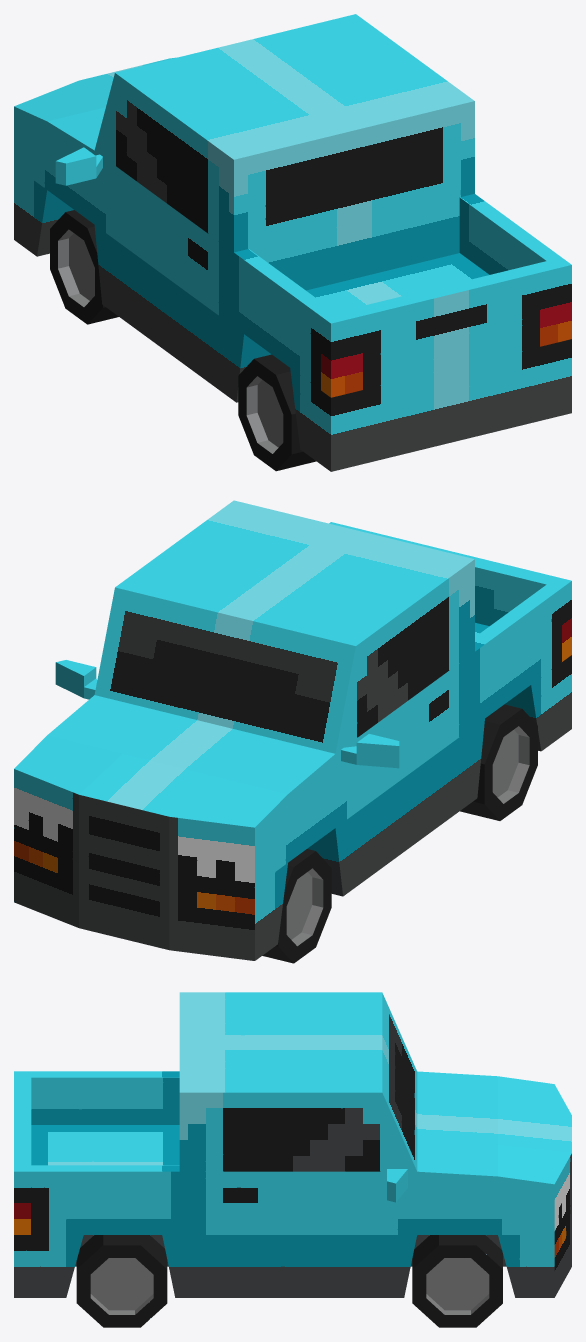
3 views of the same model, one above another, from view 1: azimuth 30°, elevation 25°; view 2: azimuth 150°, elevation 25°; view 3: azimuth 270°, elevation 25° (orthographic). The views are drawn at different scales.
Visible parts, largest first — view 1: Body, cylinder_2, cylinder_3, Mirror_Left; view 2: Body, cylinder_2, cylinder_3, Mirror_Left, Mirror_Right; view 3: Body, cylinder, cylinder_1, Mirror_Right.
Boxes of the visible parts, left/top/right/bottom form: Body: left=14, top=14, right=571, bottom=471; cylinder_2: left=238, top=354, right=316, bottom=471; cylinder_3: left=50, top=210, right=118, bottom=324; Mirror_Left: left=55, top=147, right=102, bottom=185; Body: left=14, top=500, right=571, bottom=960; cylinder_2: left=460, top=704, right=537, bottom=820; cylinder_3: left=262, top=849, right=331, bottom=963; Mirror_Left: left=341, top=734, right=399, bottom=768; Mirror_Right: left=55, top=660, right=97, bottom=699; Body: left=14, top=992, right=571, bottom=1297; cylinder: left=76, top=1235, right=167, bottom=1327; cylinder_1: left=412, top=1235, right=502, bottom=1327; Mirror_Right: left=387, top=1169, right=407, bottom=1202.
Bounding box in the file's own units: 30.31 × 23.44 × 50.
1 material, 1 textured.
